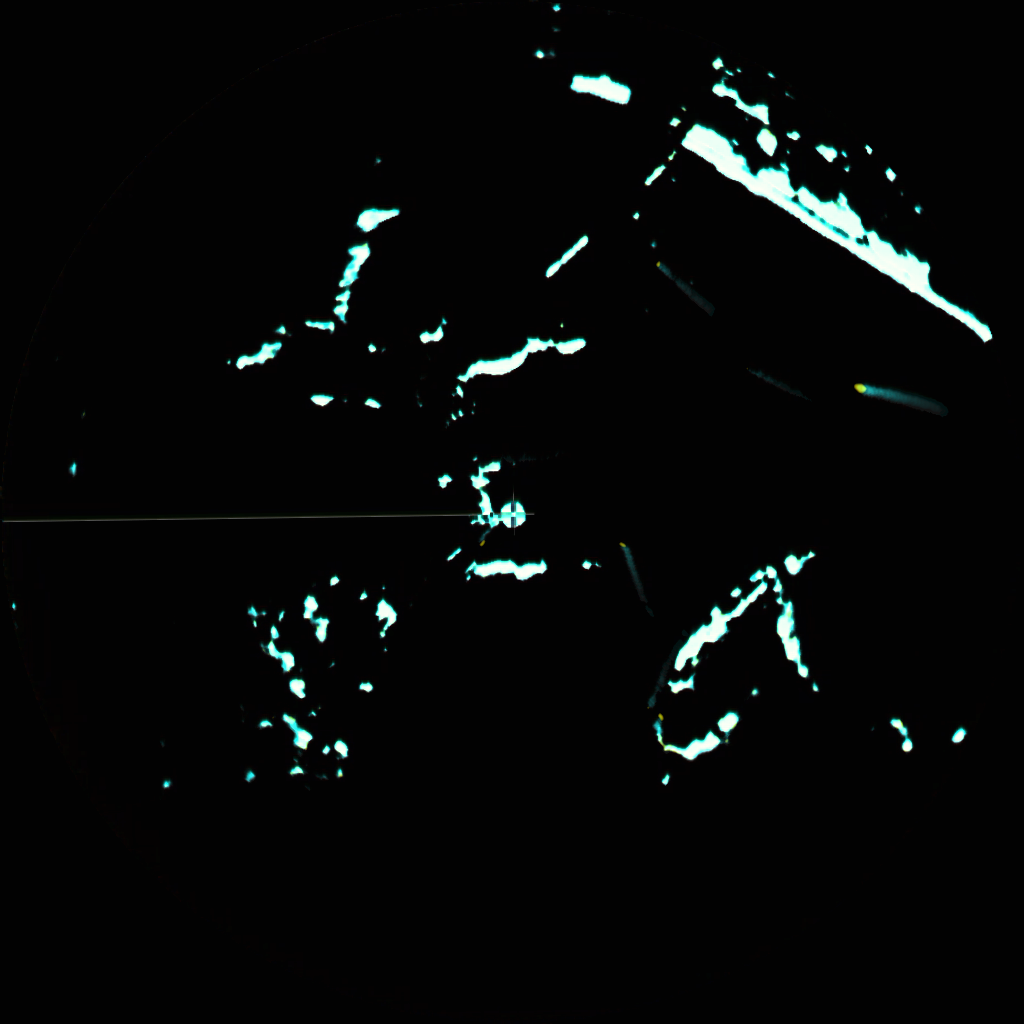B: (654, 256, 699, 300), (853, 381, 921, 409), (617, 538, 645, 590), (647, 661, 665, 708), (478, 531, 490, 545)
